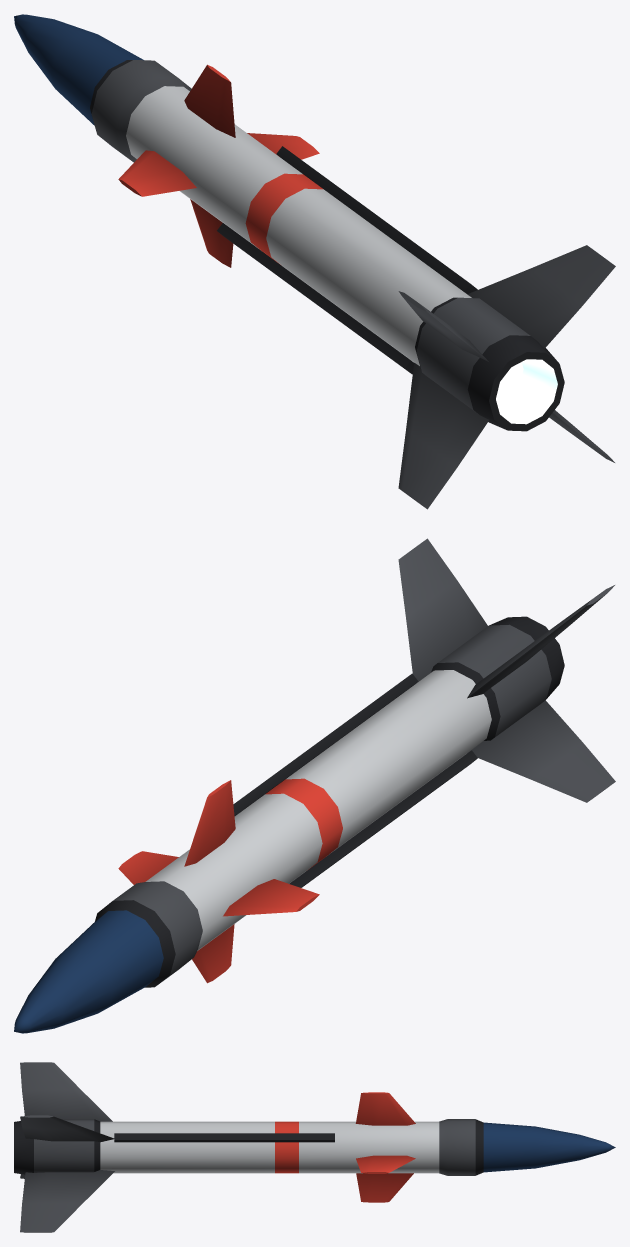
The model's file is missile.glb.
3 views of the same model, one above another, from view 1: azimuth 30°, elevation 25°; view 2: azimuth 150°, elevation 25°; view 3: azimuth 270°, elevation 25° (orthographic). The views are drawn at different scales.
Parts seen in each view (by area): view 1: missile_mesh; view 2: missile_mesh; view 3: missile_mesh.
Boxes of the visible parts, <box> form: missile_mesh: <box>14,14,615,509</box>; missile_mesh: <box>14,538,615,1033</box>; missile_mesh: <box>14,1062,615,1232</box>.
Bounding box in the file's own units: 0.6449 × 0.6449 × 3.
